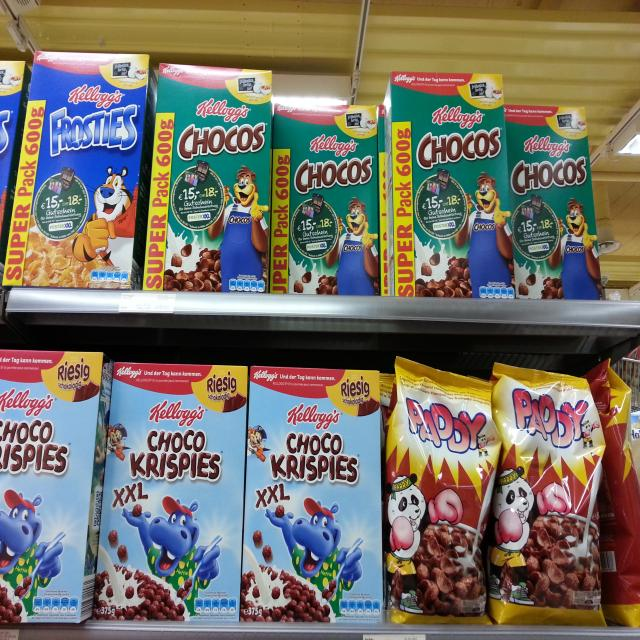Cereals: (102, 364, 238, 622), (246, 367, 381, 620), (4, 44, 142, 288), (486, 354, 604, 622), (376, 70, 512, 297), (383, 353, 487, 631), (150, 59, 271, 290), (0, 348, 94, 625), (496, 102, 604, 301), (271, 106, 383, 296)
